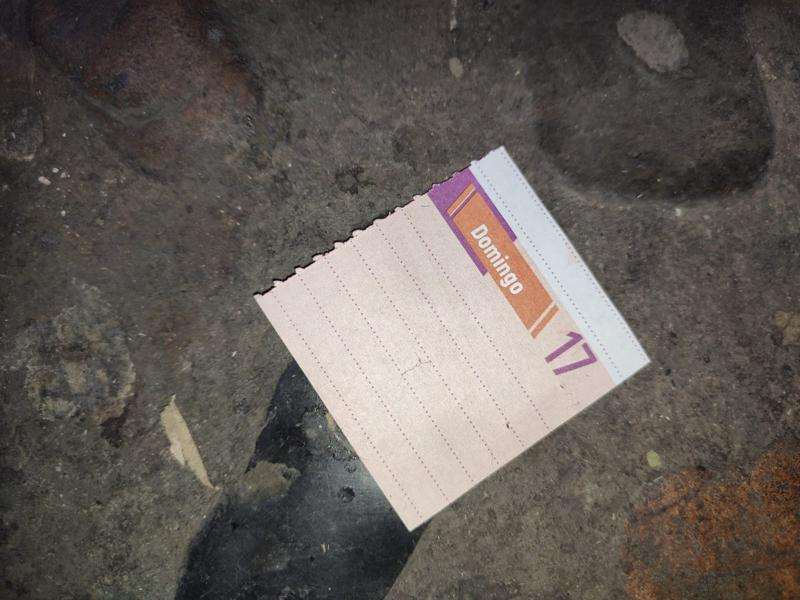papel: (253, 150, 652, 534)
